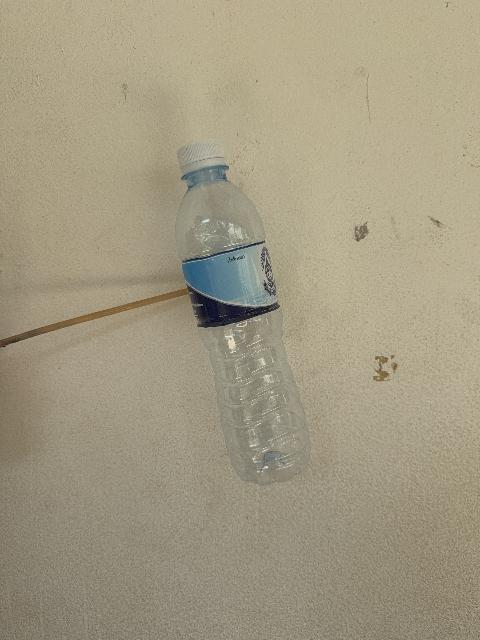bottle: (176, 140, 309, 483)
